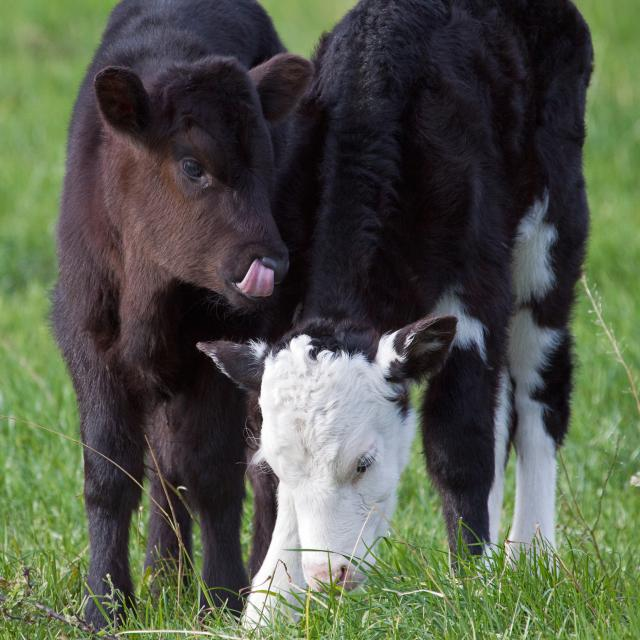cow: (199, 1, 592, 627), (52, 1, 311, 627)
